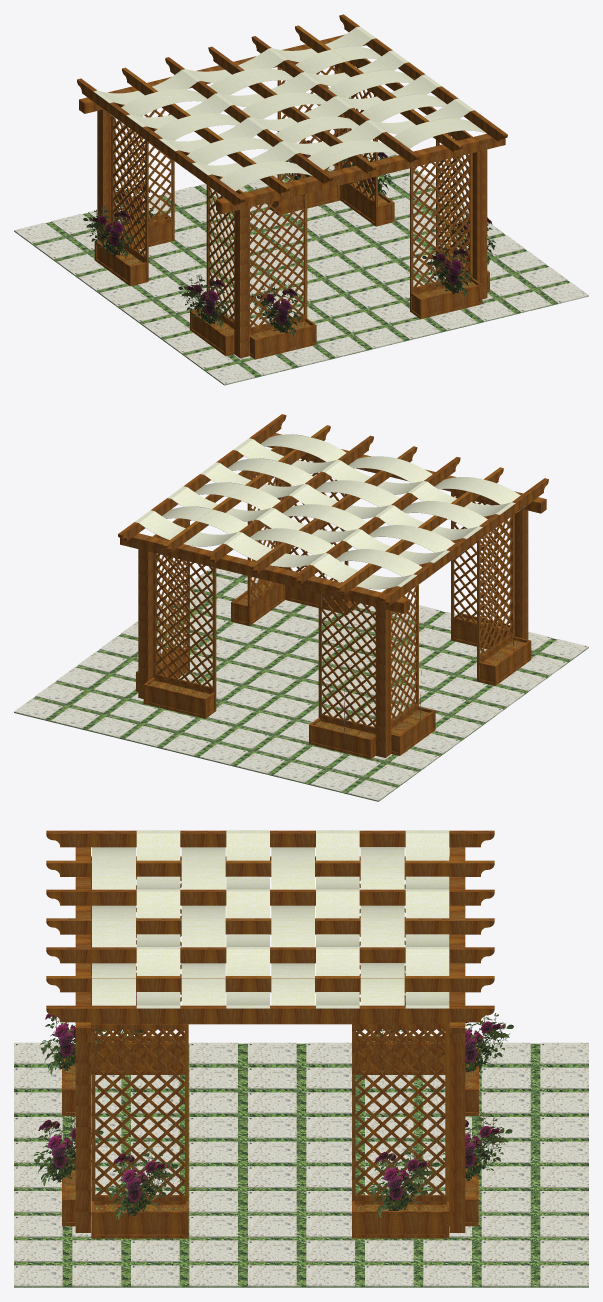
3 views of the same model, one above another, from view 1: azimuth 30°, elevation 25°; view 2: azimuth 150°, elevation 25°; view 3: azimuth 270°, elevation 25° (orthographic). The views are drawn at different scales.
Parts seen in each view (by area): view 1: SketchUp (×3), Piastrella (×41), Telo_1 (×8), Grigliato_Legno_100x200 (×8), Fioariera (×7), Rose_ebb_tide (×4); view 2: SketchUp (×3), Piastrella (×48), Telo_1 (×9), Grigliato_Legno_100x200 (×8), Fioariera (×7); view 3: Piastrella (×72), SketchUp (×3), Telo_1 (×16), Grigliato_Legno_100x200 (×4), Rose_ebb_tide (×6), Fioariera (×4).
Boxes of the visible parts, box(x1,y1,x2,y2) form: SketchUp (×3): box(14, 14, 569, 385); Piastrella (×41): box(14, 186, 588, 385); Telo_1 (×8): box(93, 26, 486, 196); Grigliato_Legno_100x200 (×8): box(111, 60, 472, 331); Fioariera (×7): box(94, 183, 482, 359); Rose_ebb_tide (×4): box(83, 205, 472, 336); SketchUp (×3): box(14, 414, 588, 801); Piastrella (×48): box(14, 616, 588, 801); Telo_1 (×9): box(135, 434, 530, 589); Grigliato_Legno_100x200 (×8): box(153, 451, 514, 731); Fioariera (×7): box(143, 581, 531, 759); Piastrella (×72): box(14, 1042, 588, 1286); SketchUp (×3): box(14, 830, 588, 1287); Telo_1 (×16): box(92, 830, 449, 1008); Grigliato_Legno_100x200 (×4): box(91, 877, 449, 1200); Rose_ebb_tide (×6): box(33, 1013, 513, 1219); Fioariera (×4): box(91, 1036, 449, 1238).
Bounding box in the file's own units: 232 × 232 × 104.
8 materials, 7 textured.
